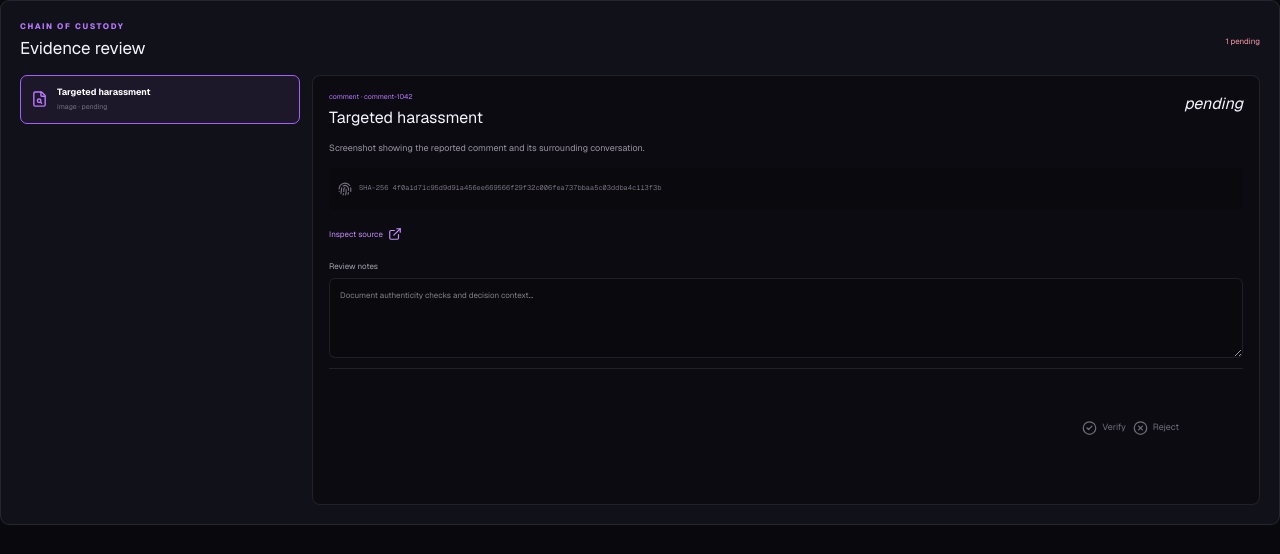
Test: EvidenceReview › documents and verifies pending evidence in local mode
This screenshot has width=1280, height=554.
Expected: the text "Targeted harassment" is shown 2 times, [57,86,150,99]; [329,106,483,130]
Expected: the text "SHA-256" is shown, [359,183,393,192]
Type "Source and hash checked." into the text box named "Evidence review notes" at (786,318), box [329,278,1243,358]
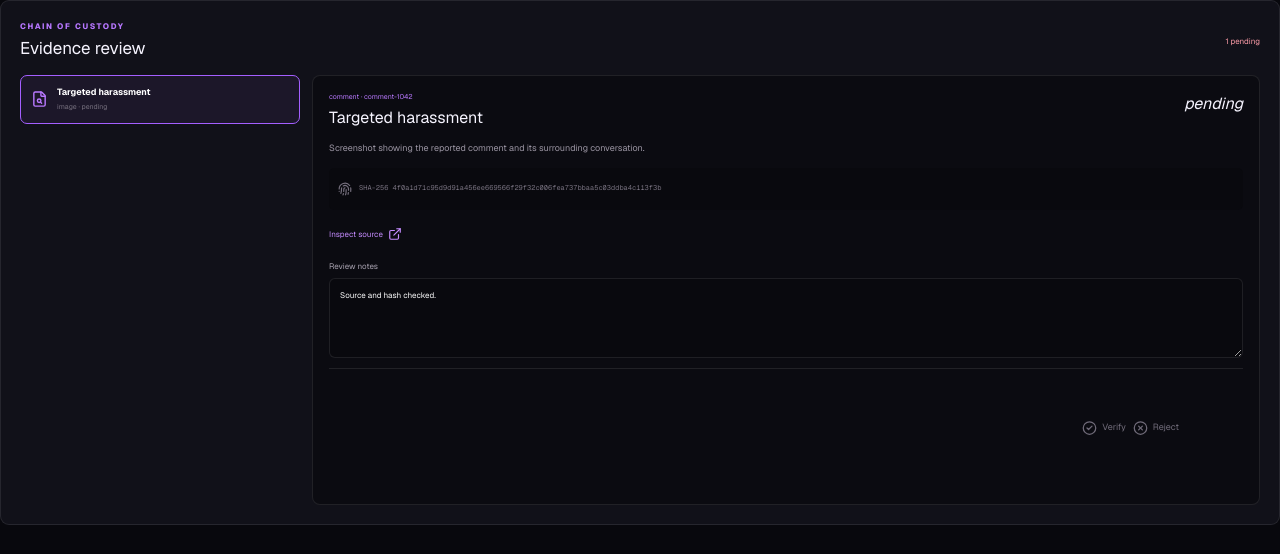
Click the button "Verify" at (1104,428), box [1082,416,1126,440]
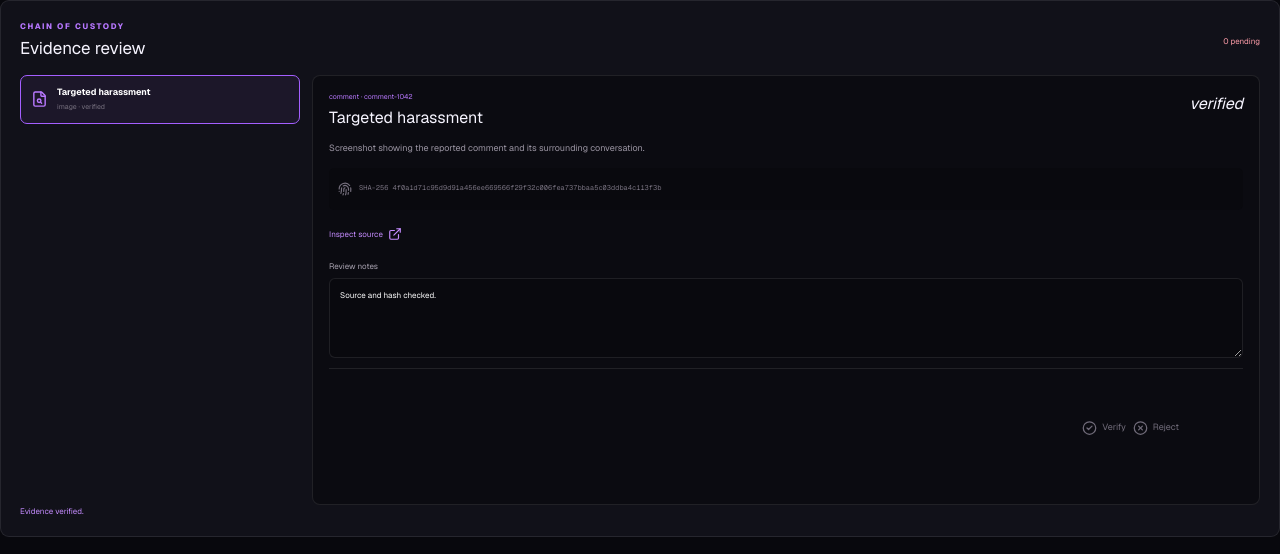
Expected: the text "Evidence verified." is shown, [20,506,84,516]
